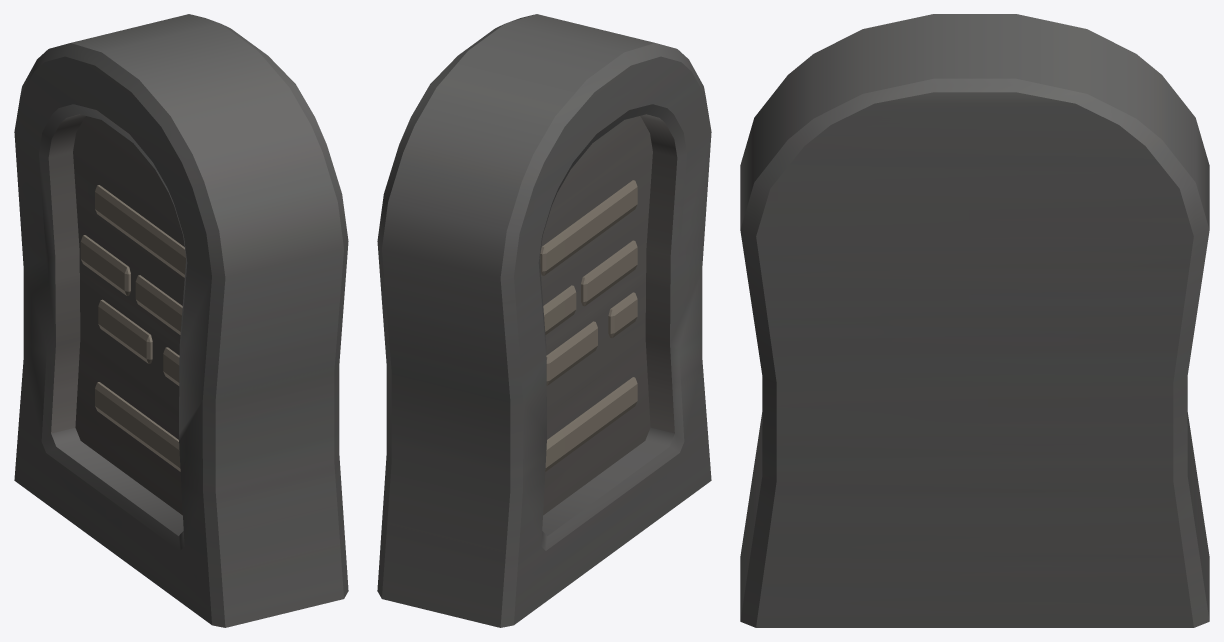
Rendered from Tombstone_1.obj.
The picture shows the model from 3 angles, left to right: view 1: azimuth 30°, elevation 25°; view 2: azimuth 150°, elevation 25°; view 3: azimuth 270°, elevation 25°; orthographic projection. The views are drawn at different scales.
Parts seen in each view (by area): view 1: Tombstone_1; view 2: Tombstone_1; view 3: Tombstone_1.
Boxes of the visible parts, bbox=[...] form: Tombstone_1: bbox=[14, 14, 348, 627]; Tombstone_1: bbox=[377, 14, 711, 627]; Tombstone_1: bbox=[740, 14, 1209, 627].
Size of the model in its own units: 0.2612 by 0.8799 by 0.6893.
